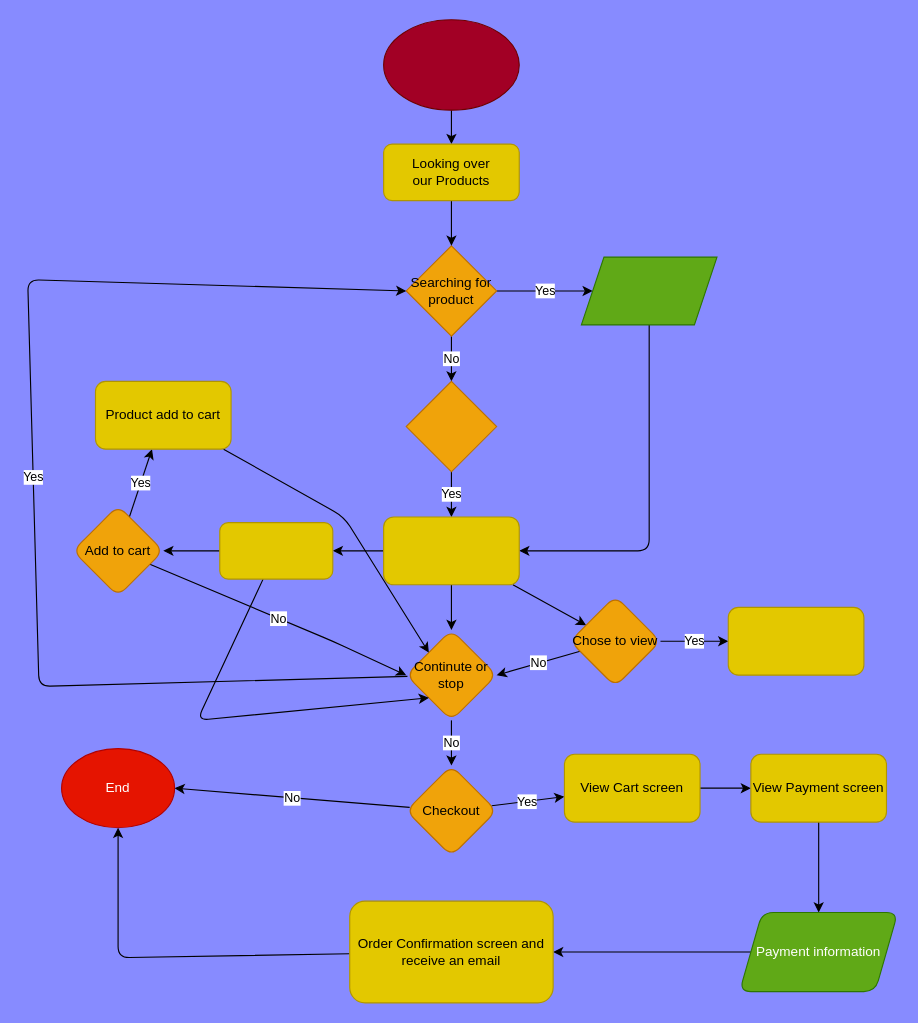
Some shapes in this 918 by 1023 pixel diagram are drawn without their labels. Here are the shapes that lost their labels. From the top down, the box of each, then its label:
(383, 19, 519, 110): User enter
(580, 256, 717, 325): please input the product
(405, 380, 497, 472): exploring home page
(219, 521, 333, 579): Cart confirmation
(383, 516, 519, 585): Veiwing specific product
(727, 606, 864, 675): Open the product's webpage
